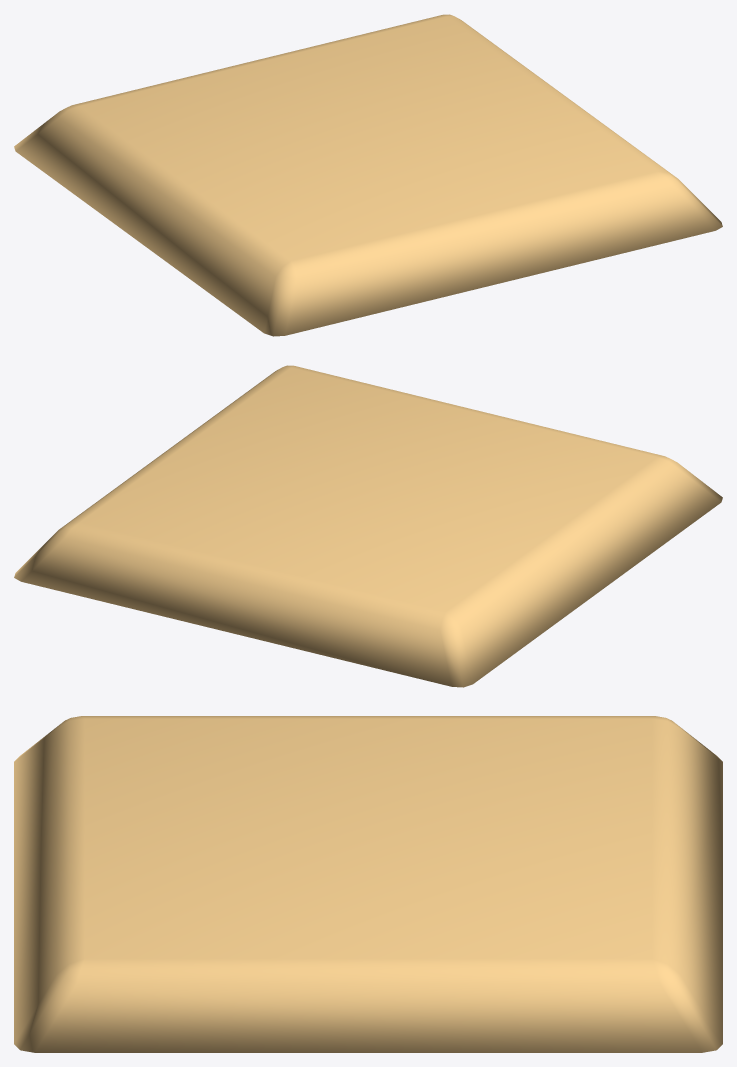
File: PalcoUI.fbx
The picture shows the model from 3 angles, top to bottom: view 1: azimuth 30°, elevation 25°; view 2: azimuth 150°, elevation 25°; view 3: azimuth 270°, elevation 25°; orthographic projection. The views are drawn at different scales.
Parts seen in each view (by area): view 1: Palco; view 2: Palco; view 3: Palco.
Part boxes in pixels (box(x1,y1,x2,y2)): Palco: box(14, 14, 722, 336); Palco: box(14, 365, 722, 687); Palco: box(14, 716, 722, 1052).
Bounding box in the file's own units: 200 × 20 × 200.
